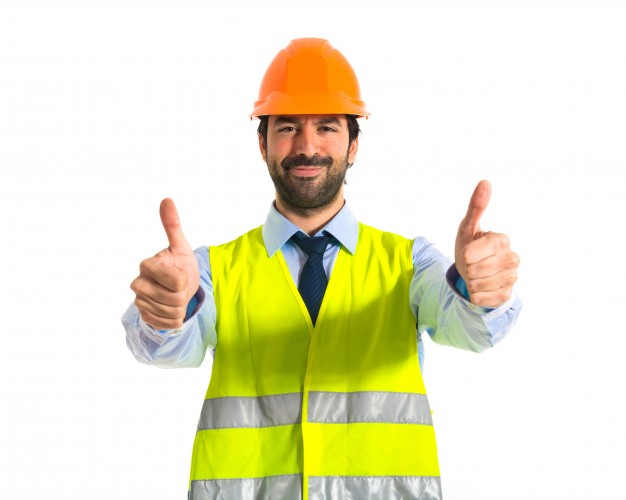thumbsup: (460, 179, 521, 306), (130, 198, 185, 329)
